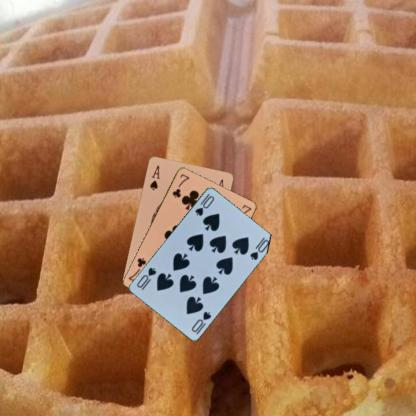10s: (192, 191, 216, 217), (189, 308, 213, 333)
7c: (169, 171, 191, 199)
As: (147, 162, 161, 192)
